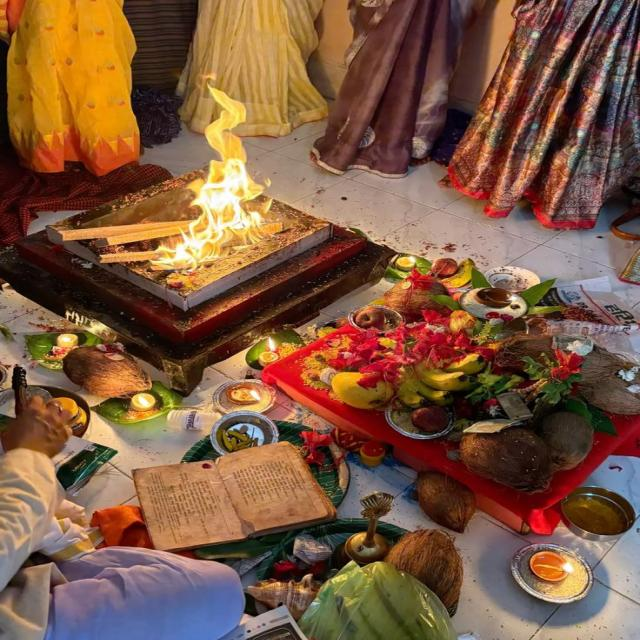fire: (152, 81, 275, 272)
